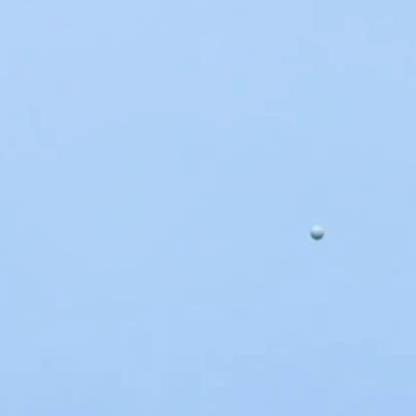golfball: (306, 221, 324, 239)
